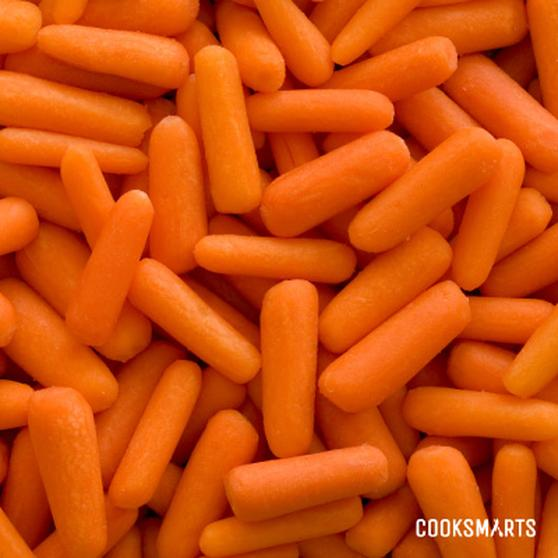carrot: (250, 277, 325, 461)
